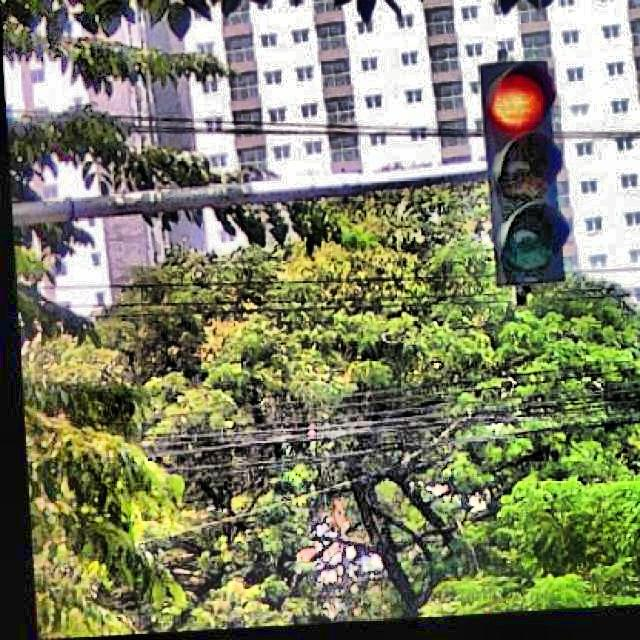red: (476, 55, 579, 289)
